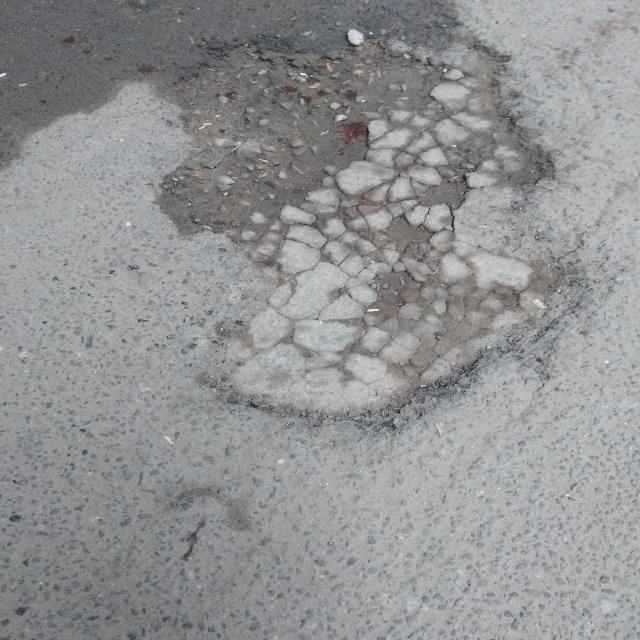Pothole: (192, 46, 564, 366)
